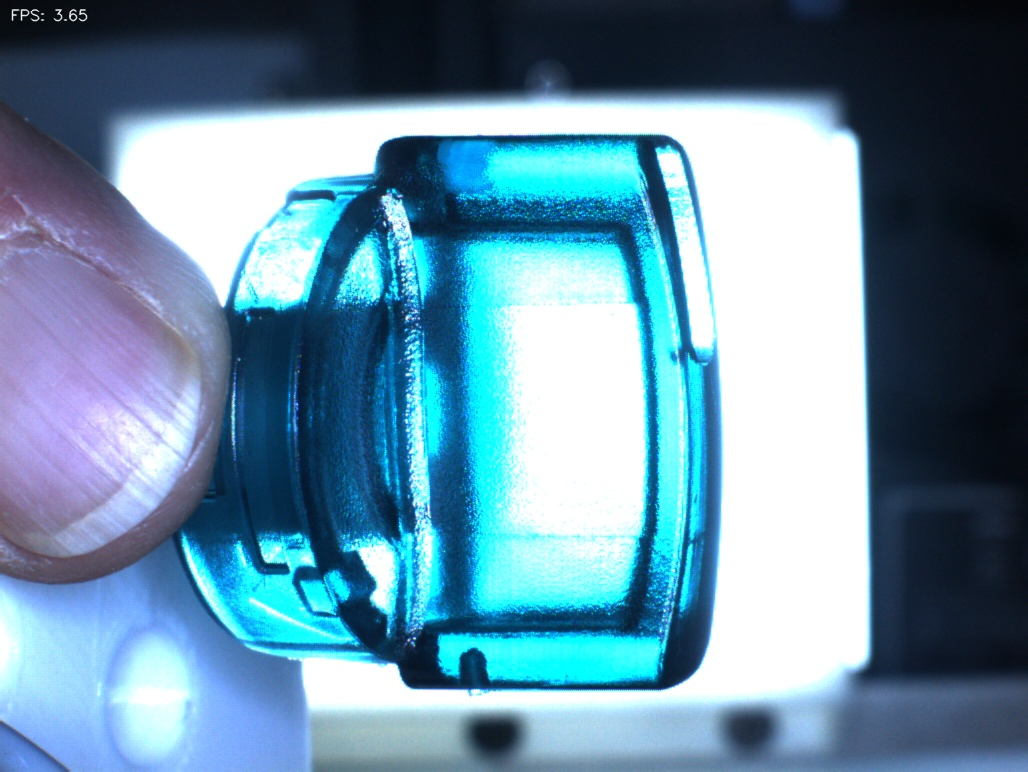Bulle: (429, 620, 510, 707)
